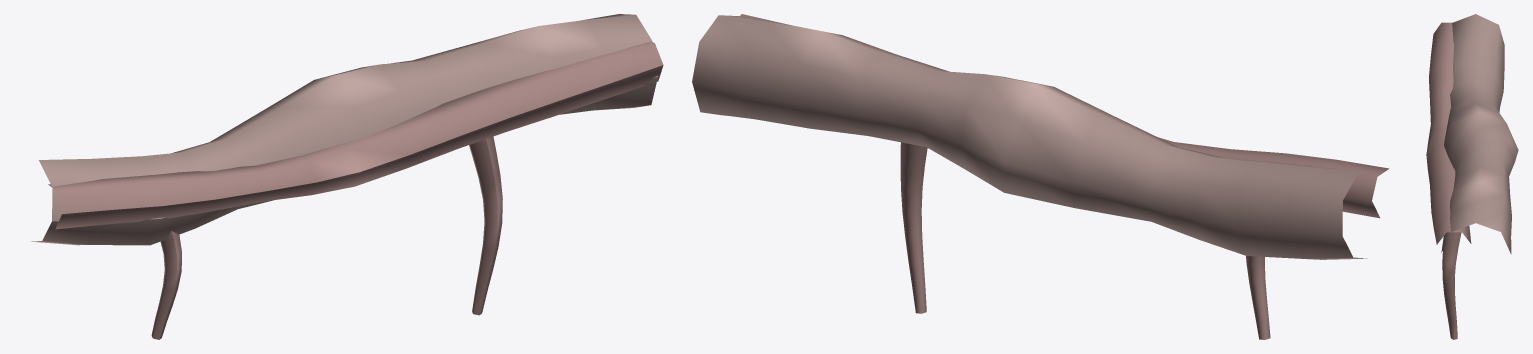
File: sinew-cord.glb
3 views of the same model, side by side, from view 1: azimuth 30°, elevation 25°; view 2: azimuth 150°, elevation 25°; view 3: azimuth 270°, elevation 25° (orthographic). The views are drawn at different scales.
Visible parts, largest first — view 1: body; view 2: body; view 3: body.
Part boxes in pixels (box(x1,y1,x2,y2)): body: box(31, 14, 663, 339); body: box(692, 14, 1389, 339); body: box(1426, 14, 1518, 339).
Size of what is drawn, in the model's own units: 0.9499 by 0.3823 by 0.1741.
